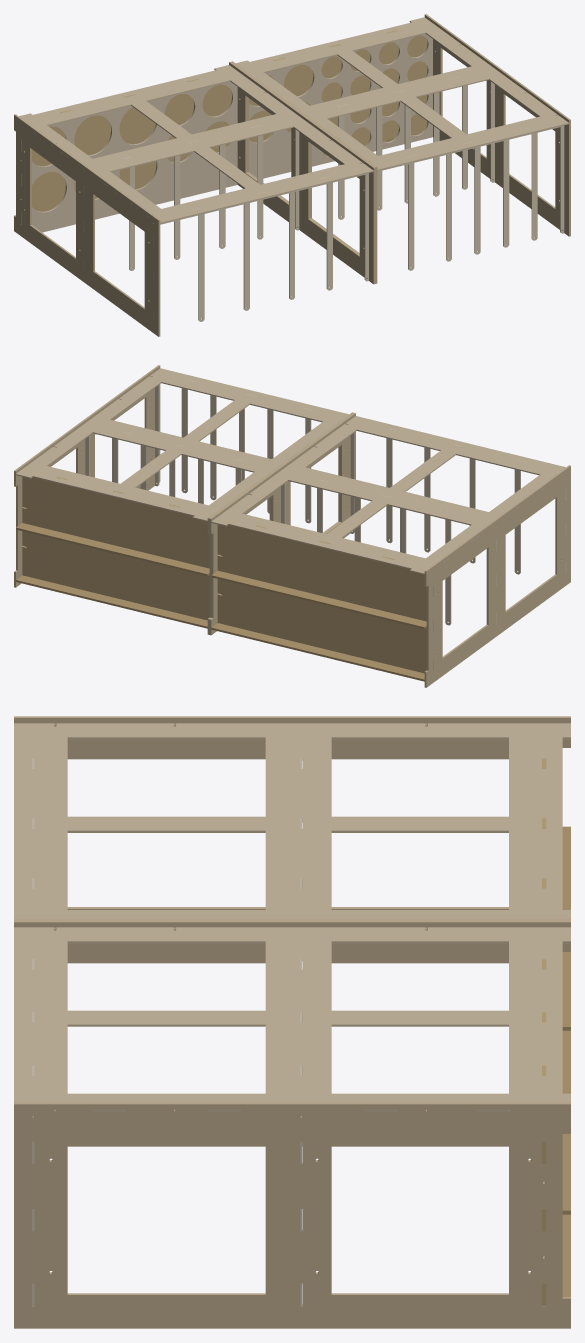
The model's file is cso_tarto_V1_allvany.glb.
The picture shows the model from 3 angles, top to bottom: view 1: azimuth 30°, elevation 25°; view 2: azimuth 150°, elevation 25°; view 3: azimuth 270°, elevation 25°; orthographic projection. The views are drawn at different scales.
Parts seen in each view (by area): view 1: A_hatfal, B_hatfal, A_oldalfal_bal, A_lokator, B_lokator, A_padlo, A_oldalfal_jobb, B_oldalfal_jobb, B_padlo, B_fesu_felso, A_fesu_felso, B_fesu_also (+2 smaller); view 2: A_padlo, B_padlo, A_hatfal, B_hatfal, A_oldalfal_bal, A_oldalfal_jobb, B_oldalfal_jobb, B_fesu_felso, A_fesu_felso, A_talp_2, A_talp_1, B_talp_2 (+4 smaller); view 3: B_oldalfal_jobb, A_hatfal, B_hatfal, A_oldalfal_bal, B_oldalfal_bal, A_oldalfal_jobb, A_talp_2, B_talp_2.
Part boxes in pixels (box(x1,y1,x2,y2)): A_hatfal: box(19, 65, 373, 223); B_hatfal: box(236, 17, 568, 170); A_oldalfal_bal: box(14, 114, 160, 336); A_lokator: box(32, 81, 237, 232); B_lokator: box(249, 34, 432, 178); A_padlo: box(20, 79, 231, 224); A_oldalfal_jobb: box(229, 62, 375, 284); B_oldalfal_jobb: box(424, 14, 570, 236); B_padlo: box(249, 30, 427, 156); B_fesu_felso: box(377, 125, 564, 270); A_fesu_felso: box(153, 173, 368, 321); B_fesu_also: box(336, 76, 494, 219); A_padlo: box(217, 524, 433, 673); B_padlo: box(22, 477, 209, 620); A_hatfal: box(211, 416, 565, 574); B_hatfal: box(16, 368, 348, 521); A_oldalfal_bal: box(424, 465, 570, 687); A_oldalfal_jobb: box(209, 413, 355, 635); B_oldalfal_jobb: box(14, 365, 160, 587); B_fesu_felso: box(155, 380, 313, 523); A_fesu_felso: box(350, 428, 566, 574); A_talp_2: box(211, 570, 426, 628); A_talp_1: box(211, 623, 424, 681); B_talp_2: box(16, 523, 209, 576); B_oldalfal_jobb: box(14, 1102, 570, 1328); A_hatfal: box(14, 723, 570, 918); B_hatfal: box(14, 927, 570, 1111); A_oldalfal_bal: box(14, 716, 570, 909); B_oldalfal_bal: box(14, 920, 570, 1146); A_oldalfal_jobb: box(14, 918, 570, 920); A_talp_2: box(562, 826, 570, 1030); B_talp_2: box(562, 1030, 570, 1214).
Bounding box in the file's own units: 2224 × 600 × 1350.
